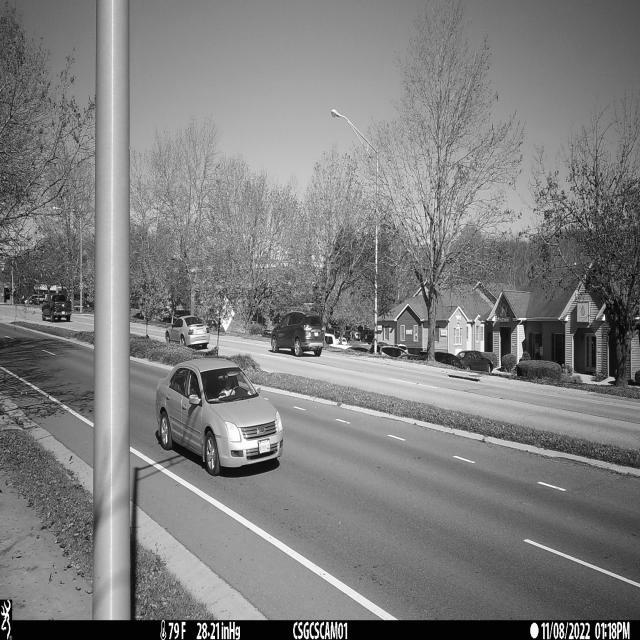Bus: (155, 358, 284, 477)
